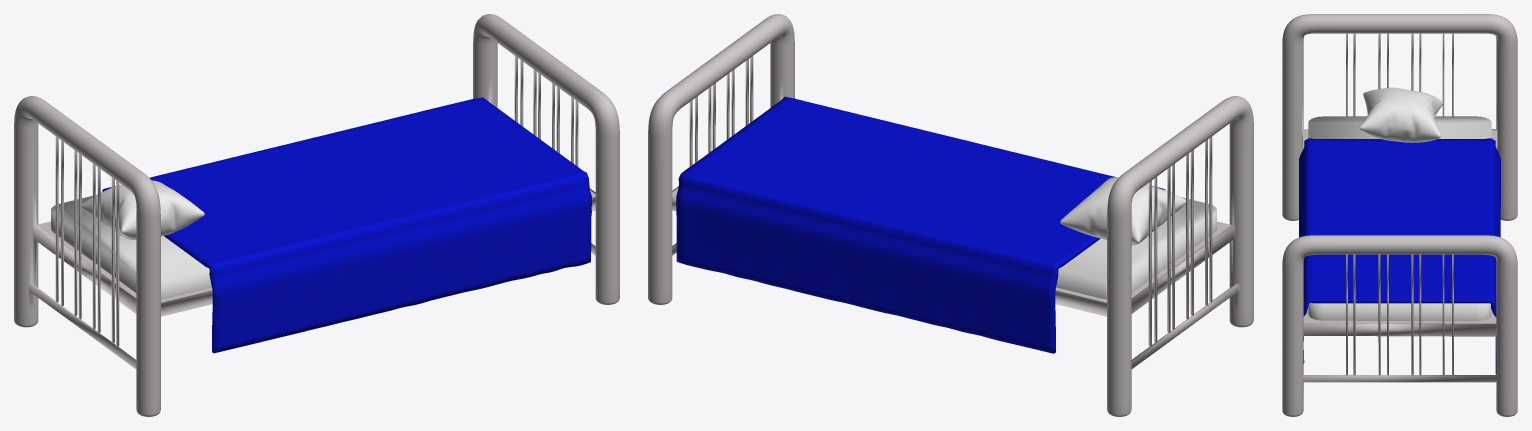
Rendered from Wireframe_Bed(V2.5).fbx.
3 views of the same model, side by side, from view 1: azimuth 30°, elevation 25°; view 2: azimuth 150°, elevation 25°; view 3: azimuth 270°, elevation 25° (orthographic). The views are drawn at different scales.
Visible parts, largest first — view 1: Frame; view 2: Frame; view 3: Frame.
Boxes of the visible parts, bbox=[...] form: Frame: bbox=[14, 14, 619, 416]; Frame: bbox=[648, 14, 1253, 416]; Frame: bbox=[1282, 14, 1517, 416].
Bounding box in the file's own units: 931 × 430 × 452.
